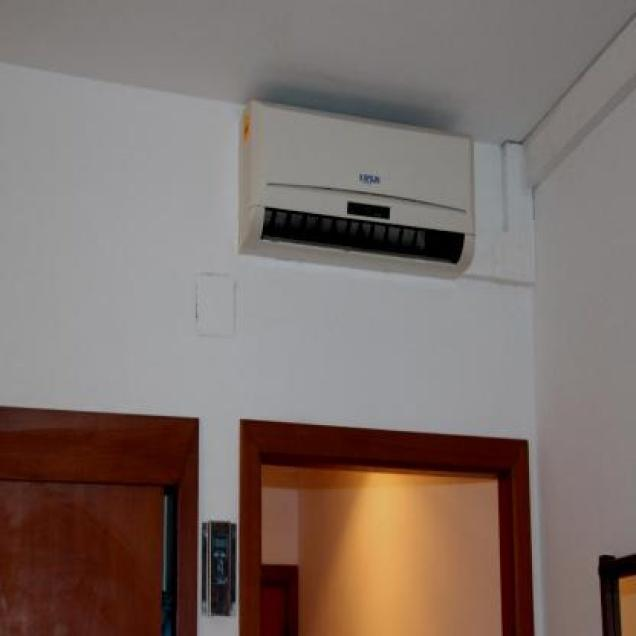AC: (236, 98, 477, 282)
